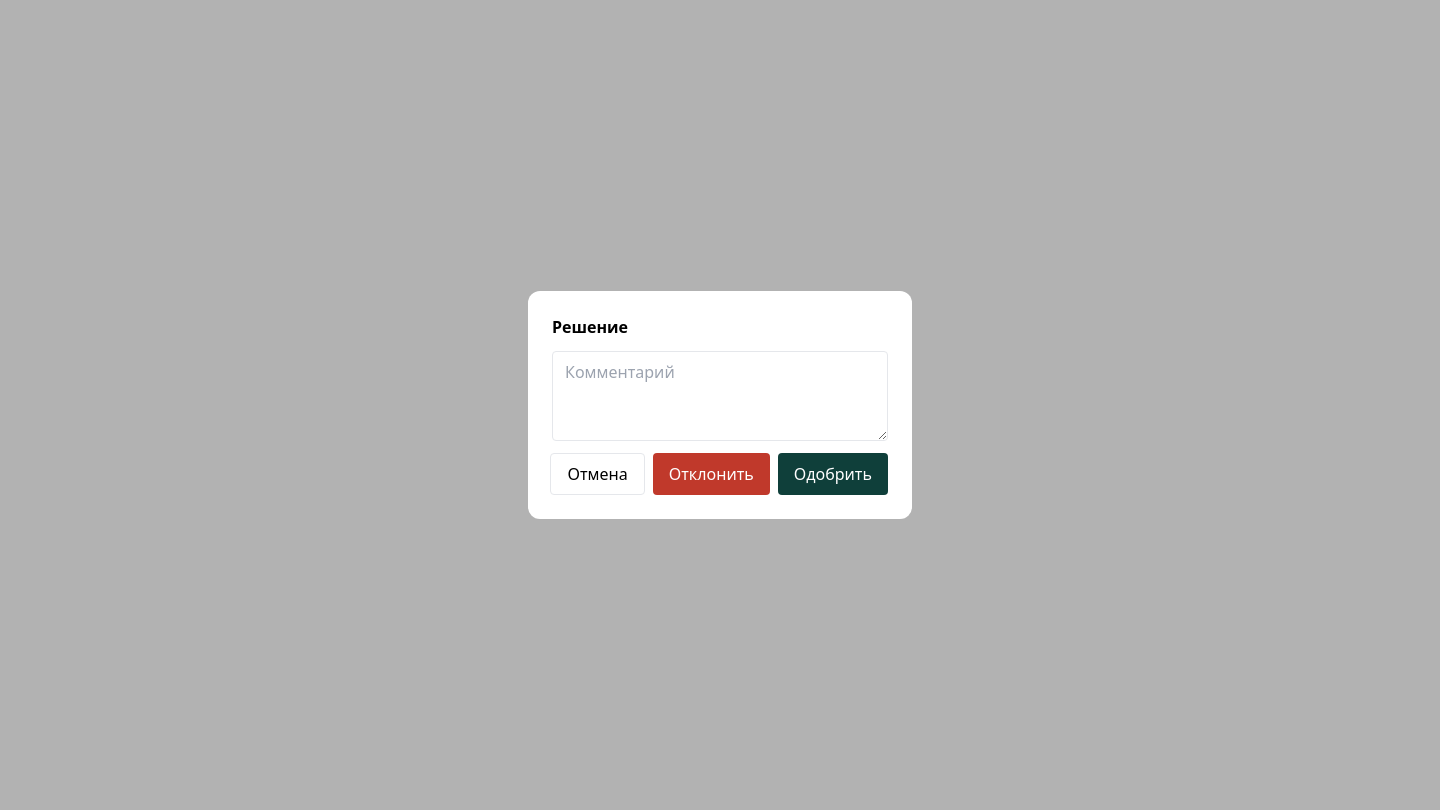
DecisionModal › reject без комментария при requireCommentOnReject блокирует отправку
Click the button "Отклонить" at point(711, 474), box [653, 453, 770, 495]
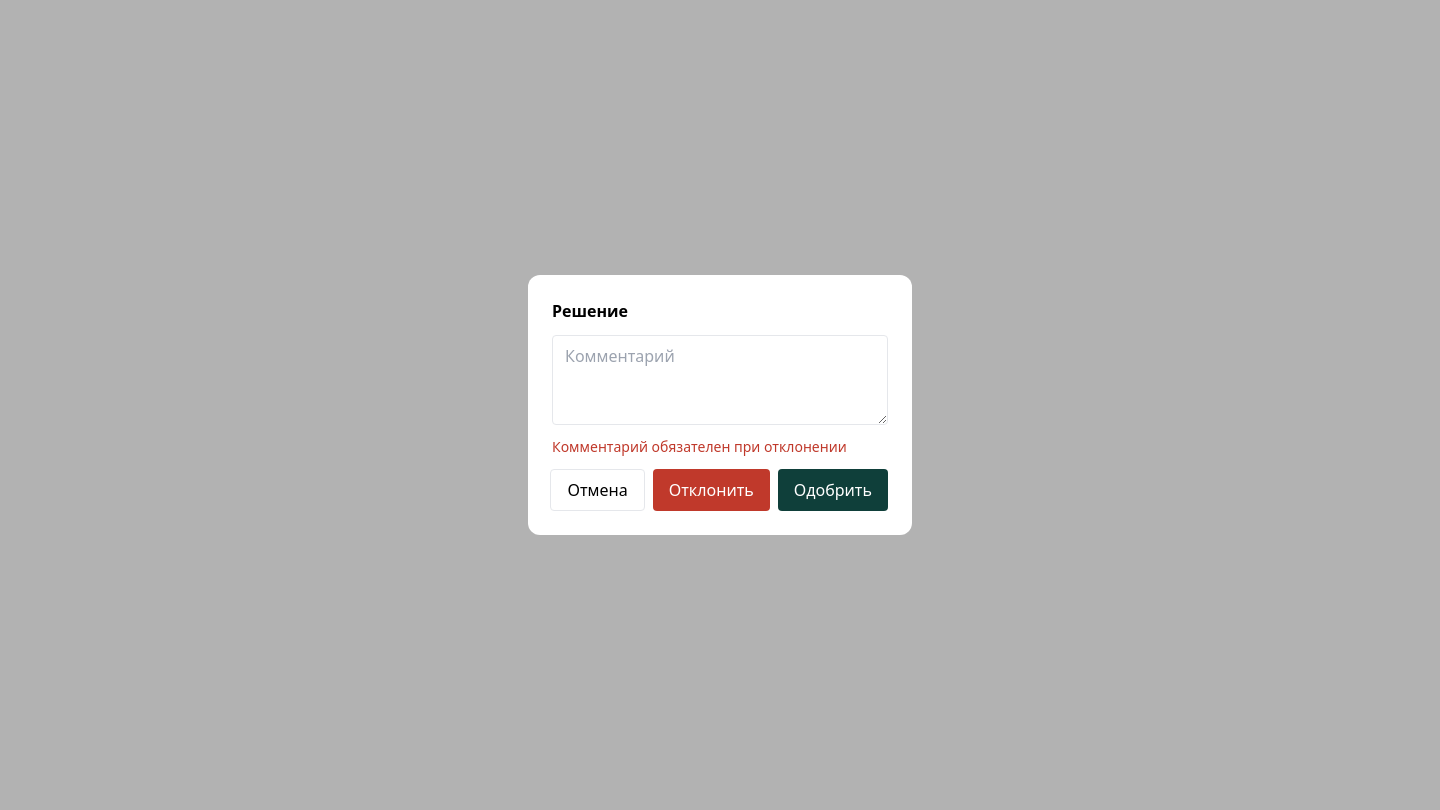
Now the text "Комментарий обязателен при отклонении" is shown, box [552, 437, 888, 457]
